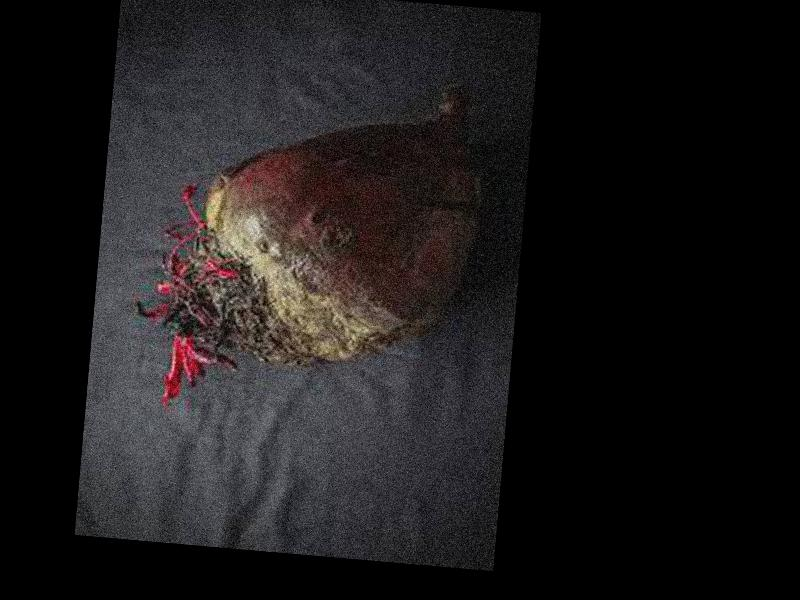Beet: (127, 55, 489, 430)
